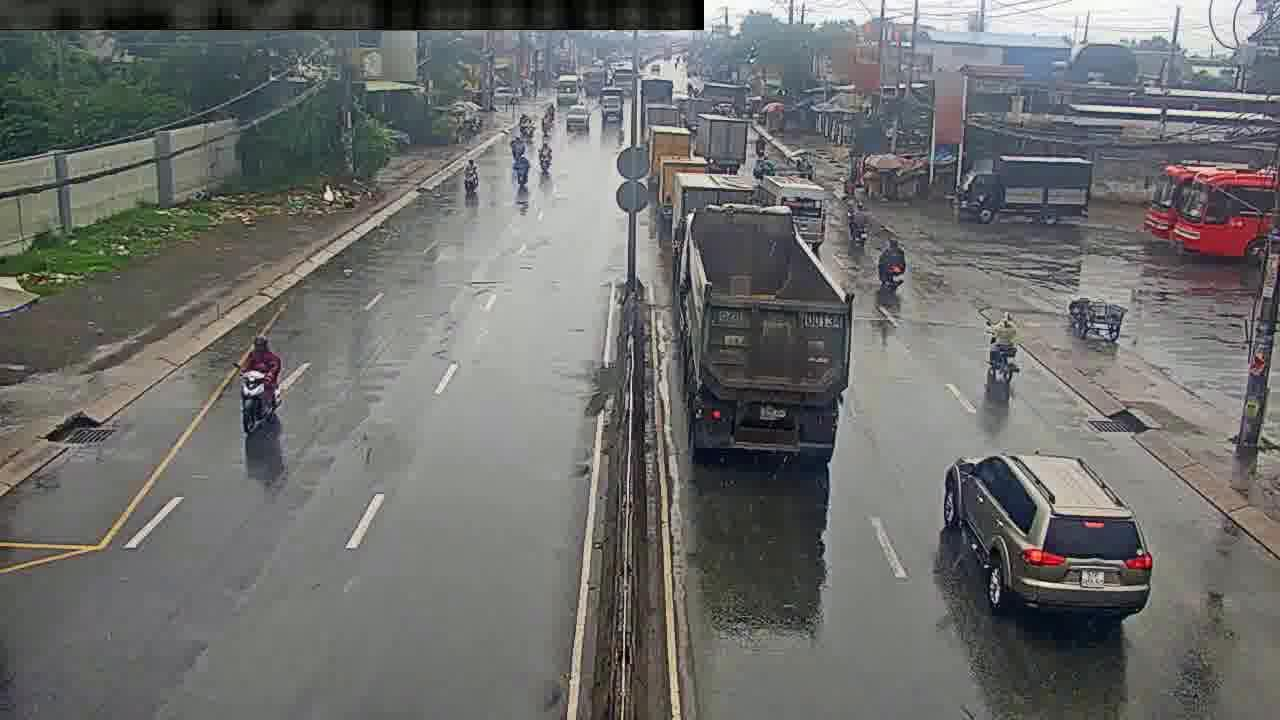car: (942, 449, 1148, 629)
container: (678, 199, 852, 442), (703, 115, 745, 170)
motorbike: (242, 335, 281, 433), (988, 313, 1021, 395), (879, 233, 905, 294), (852, 200, 870, 246), (459, 159, 476, 202), (515, 152, 529, 195), (537, 142, 554, 176)
passenger_car: (759, 175, 829, 250)
